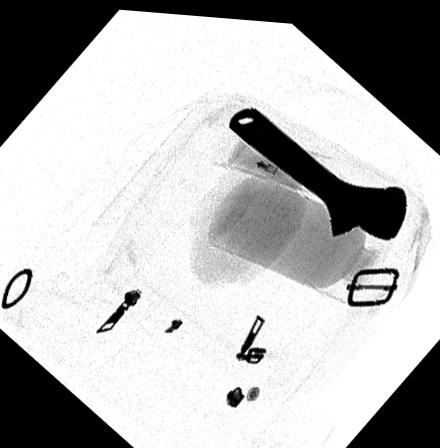Wrench: (228, 101, 409, 235)
